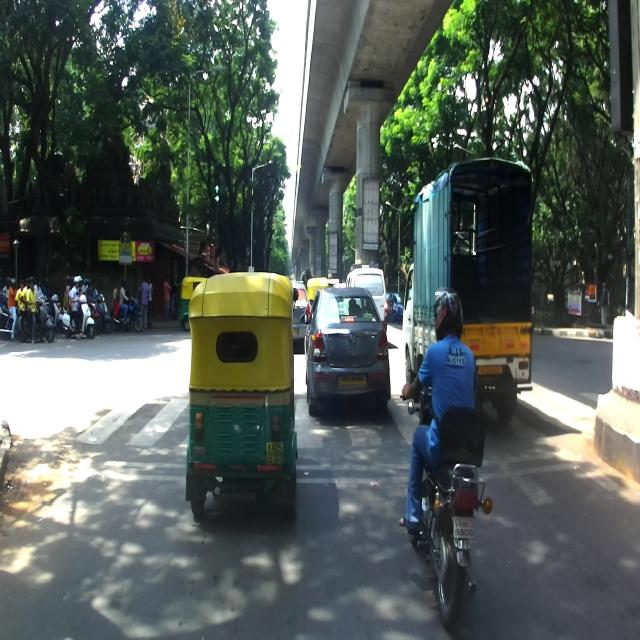autorickshaw: (184, 272, 299, 522)
car: (299, 284, 391, 418)
motorcycle: (399, 388, 493, 629)
truck: (402, 156, 535, 424)
